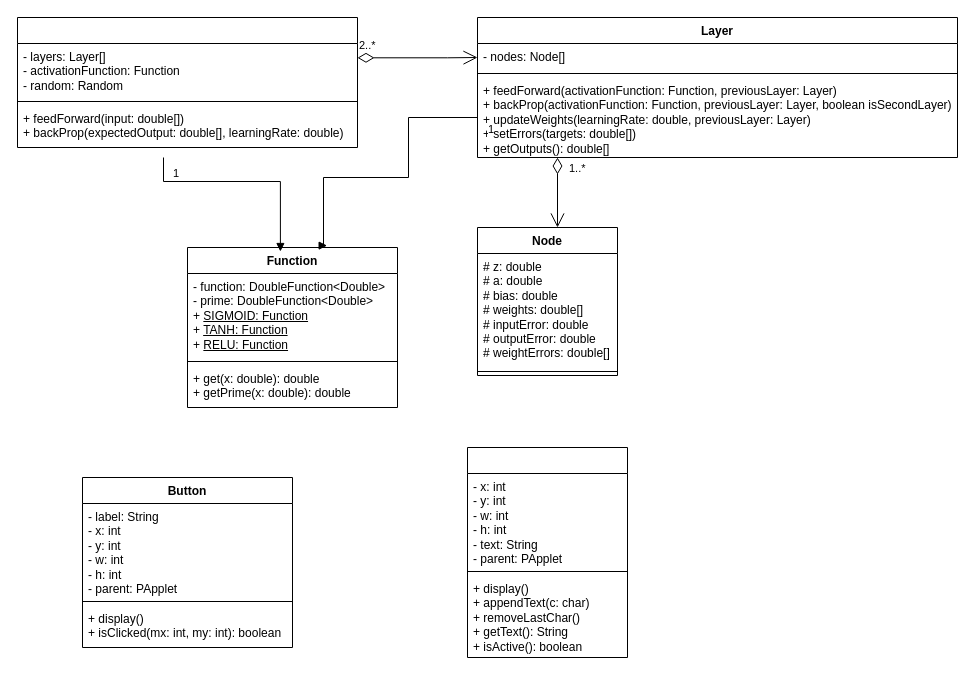
This 975x678 diagram has some shape labels left out. The box of each missing label's shape, as (x1, y1, x2, y2) in pixels:
NeuralNetwork: (16, 16, 358, 148)
TextBox: (466, 446, 628, 658)
